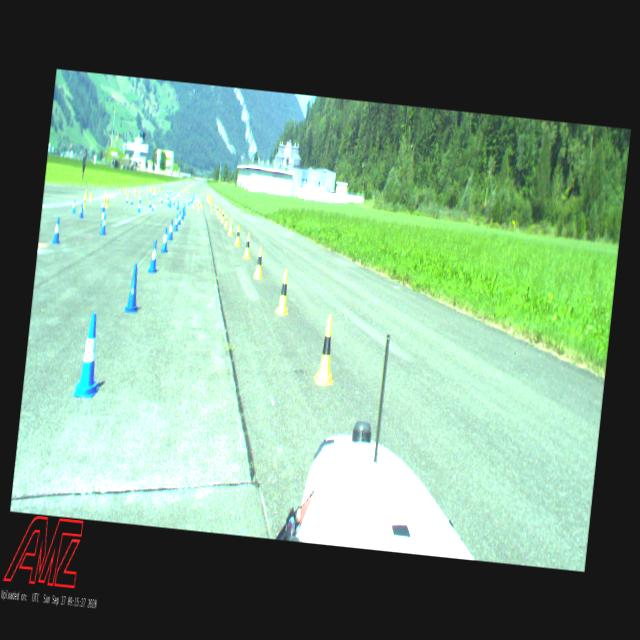blue_cone: (72, 312, 106, 398), (124, 263, 142, 313), (148, 238, 159, 272), (52, 217, 62, 243), (160, 227, 170, 252), (100, 213, 107, 236), (167, 219, 174, 240), (173, 214, 179, 231), (78, 202, 84, 218), (71, 198, 76, 213), (100, 207, 104, 225), (177, 210, 181, 224), (101, 199, 105, 211), (137, 201, 141, 212), (151, 200, 155, 211), (148, 198, 152, 207), (183, 204, 186, 215), (181, 209, 184, 219), (167, 197, 170, 206), (125, 194, 128, 202), (130, 197, 133, 204), (188, 196, 190, 205), (161, 195, 163, 203), (169, 199, 171, 207), (182, 202, 184, 210), (152, 191, 154, 198), (190, 196, 192, 203), (157, 190, 159, 197), (166, 193, 168, 200), (139, 195, 141, 202)
yellow_cone: (313, 314, 339, 386), (275, 268, 292, 314), (253, 246, 264, 278), (242, 232, 252, 258), (234, 224, 242, 246), (228, 217, 234, 235), (82, 195, 86, 208), (221, 209, 225, 222), (224, 215, 228, 228), (84, 188, 88, 199), (105, 196, 108, 207), (124, 186, 128, 194), (210, 202, 213, 212), (89, 192, 92, 202), (192, 200, 195, 208), (134, 188, 137, 196), (216, 204, 218, 214), (200, 198, 202, 208), (198, 200, 200, 209), (218, 208, 220, 217), (127, 191, 129, 199), (119, 185, 121, 192), (134, 186, 136, 193), (138, 192, 140, 198)
